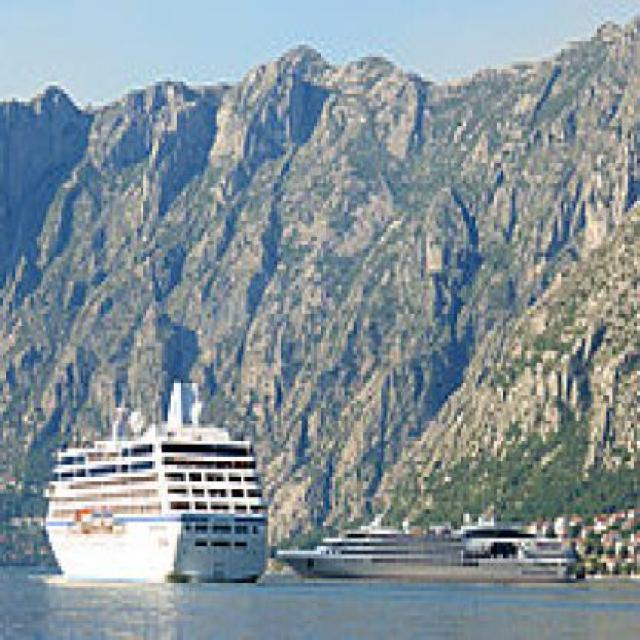cruise: (47, 376, 276, 609), (279, 507, 590, 601)
